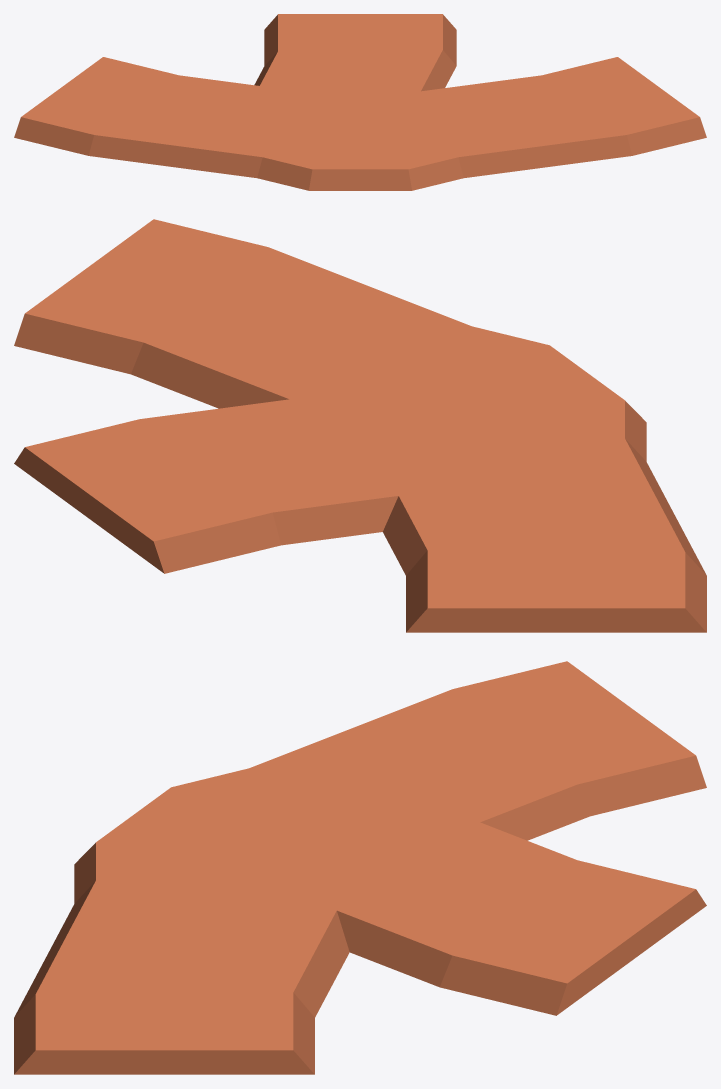
File: path_intersectionA.dae
3 views of the same model, one above another, from view 1: azimuth 30°, elevation 25°; view 2: azimuth 150°, elevation 25°; view 3: azimuth 270°, elevation 25° (orthographic). The views are drawn at different scales.
Visible parts, largest first — view 1: path_intersectionA; view 2: path_intersectionA; view 3: path_intersectionA.
Boxes of the visible parts, box(x1,y1,x2,y2) form: path_intersectionA: box(14, 14, 706, 190); path_intersectionA: box(14, 219, 706, 632); path_intersectionA: box(14, 661, 706, 1074).
Size of the model in its own units: 0.8708 by 0.025 by 0.6423.
